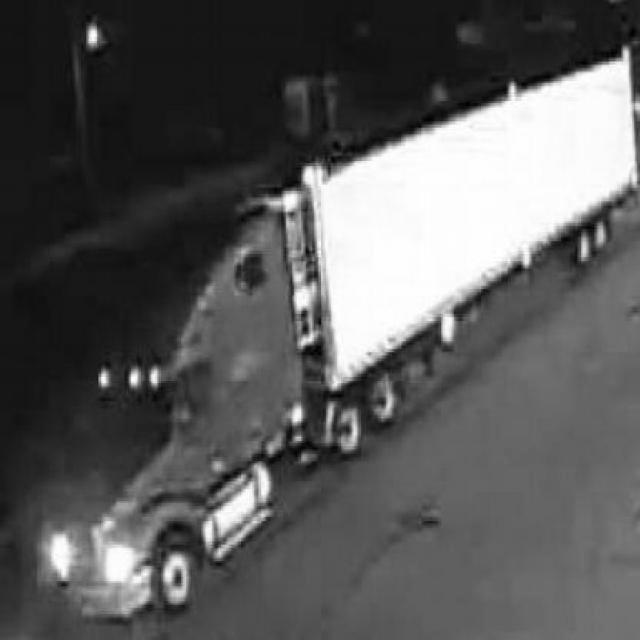Box Truck: (19, 43, 640, 620)
